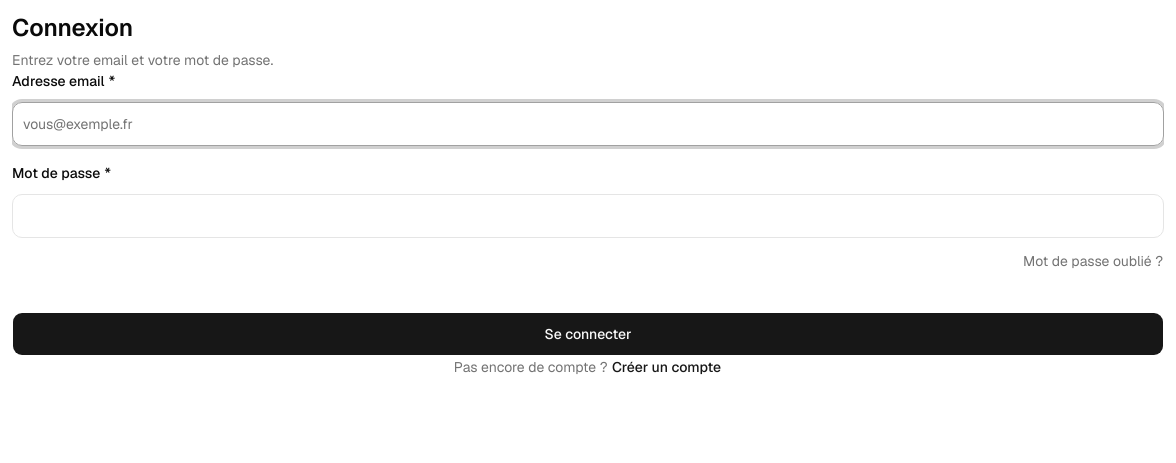
Scenario: SignInScreen › handles a rejected sign-up on an address already taken
Click the button "Créer un compte": click(667, 367) [611,356,722,378]
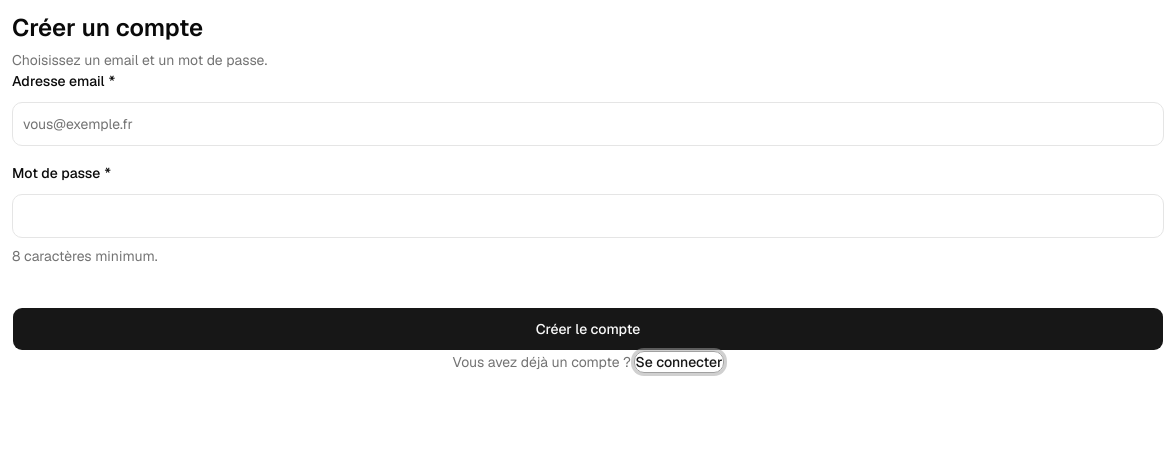
In the field labelled "Adresse email": (588, 124) [12,102,1164,146], type "olivier@exemple.fr"
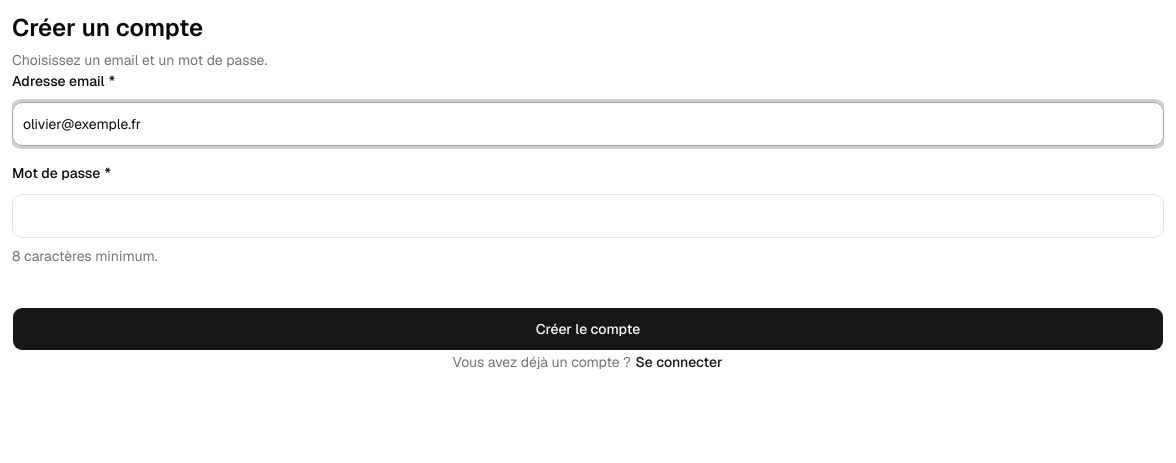
In the password field labelled "Mot de passe": (588, 216) [12,194,1164,238], type "motdepasse123"
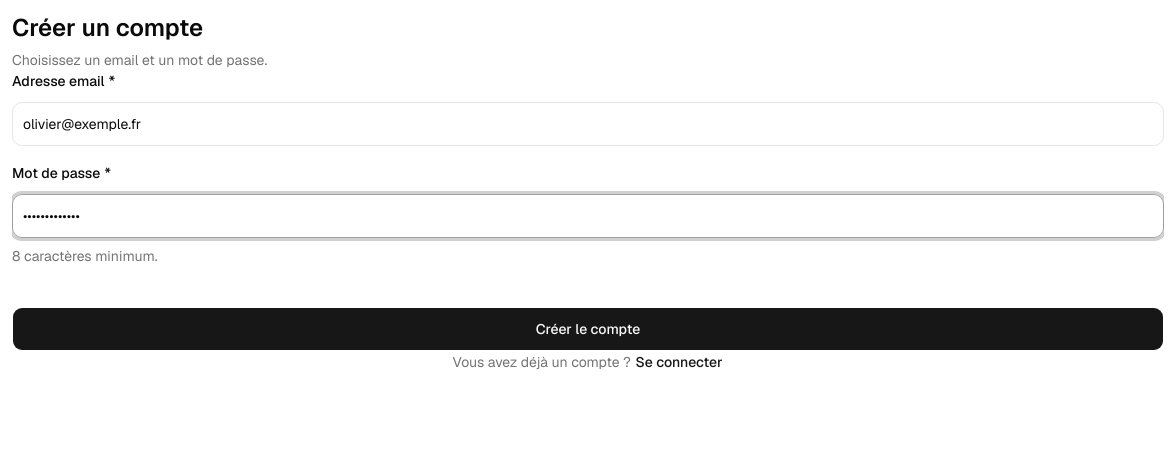
Click the button "Créer le compte": click(588, 329) [12,307,1164,351]
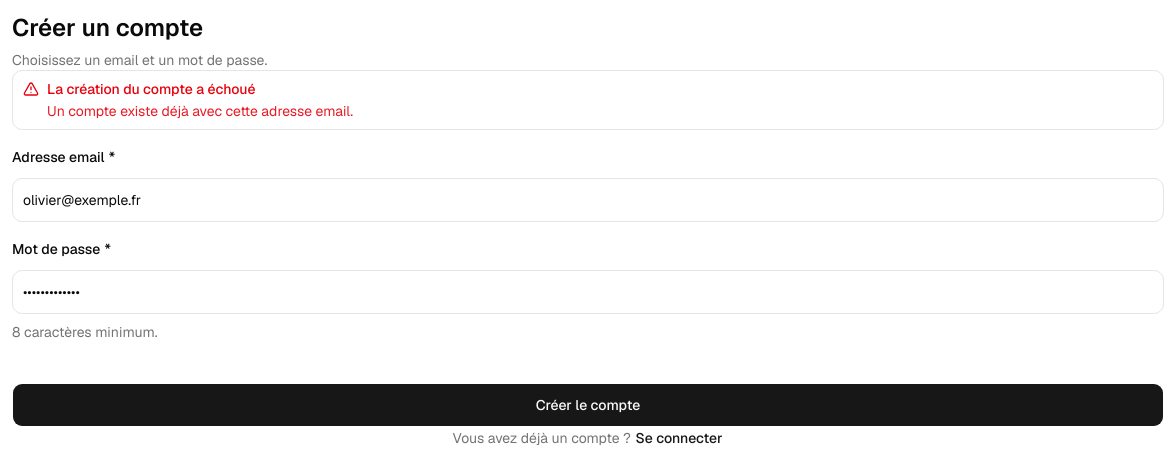
expect the text "Un compte existe déjà avec cette adresse email." is shown: met, box [47,102,353,120]
